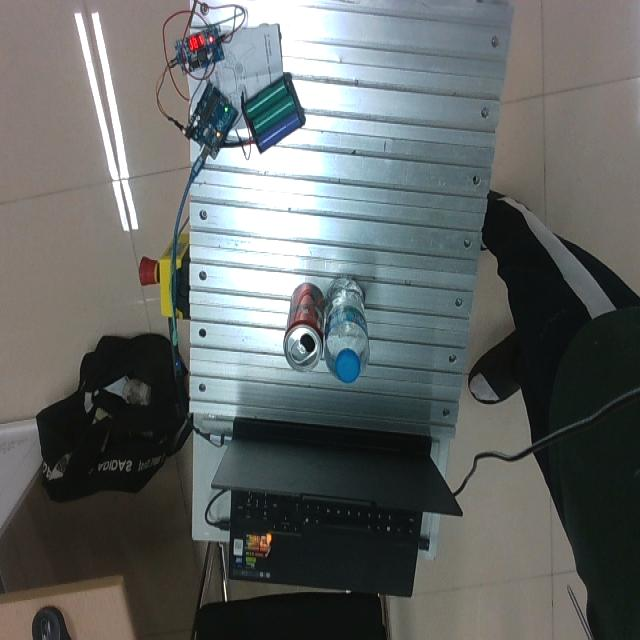coca: (283, 282, 326, 374)
lavie: (322, 277, 369, 384)
